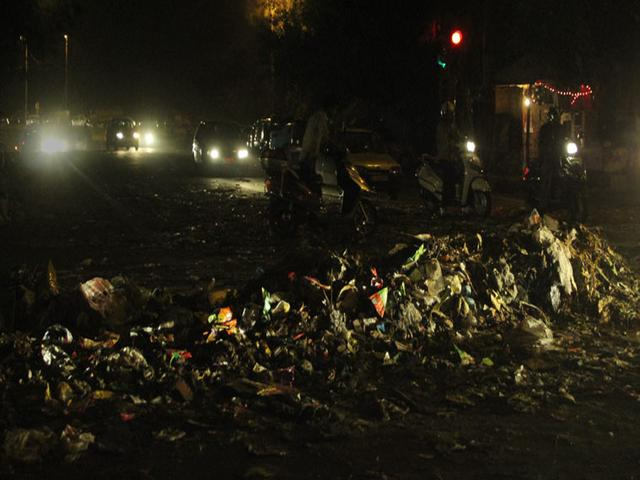garbage: (51, 228, 618, 431)
